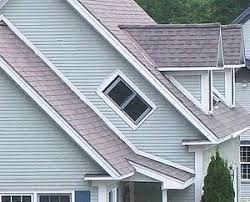Window: (102, 76, 153, 123), (36, 190, 73, 202), (240, 143, 250, 182), (1, 192, 34, 202)
